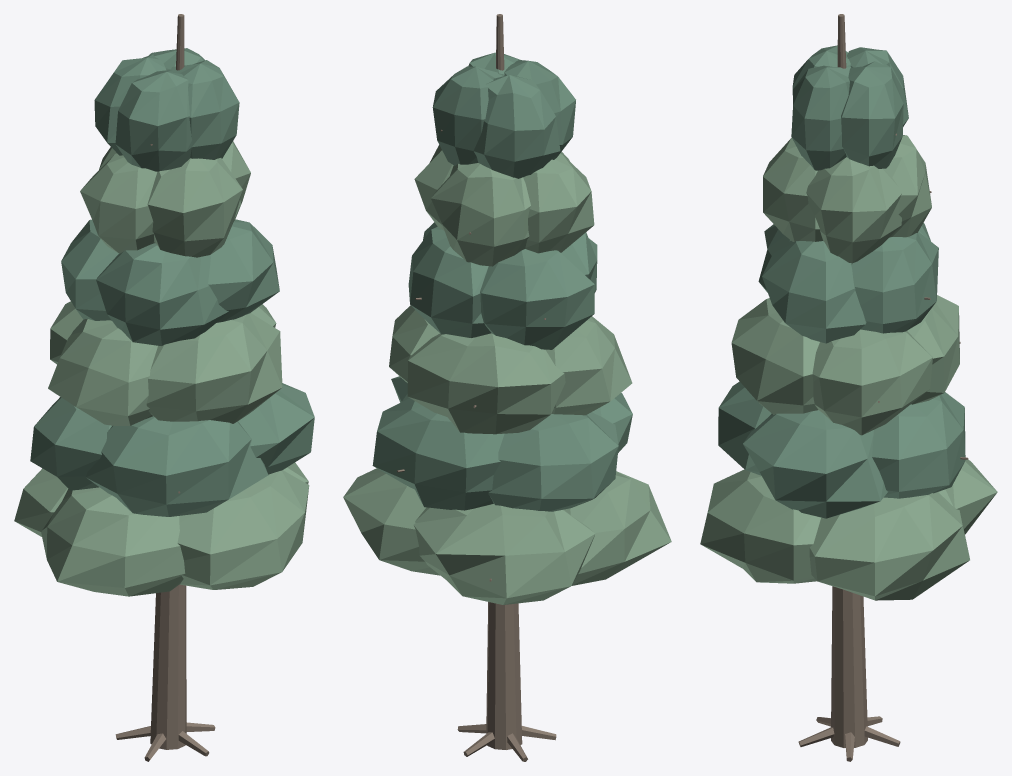
3 renders of one model, left to right at view 1: azimuth 30°, elevation 25°; view 2: azimuth 150°, elevation 25°; view 3: azimuth 270°, elevation 25°, orthographic.
Bounding box in the file's own units: 9.91 × 24.61 × 9.1.
